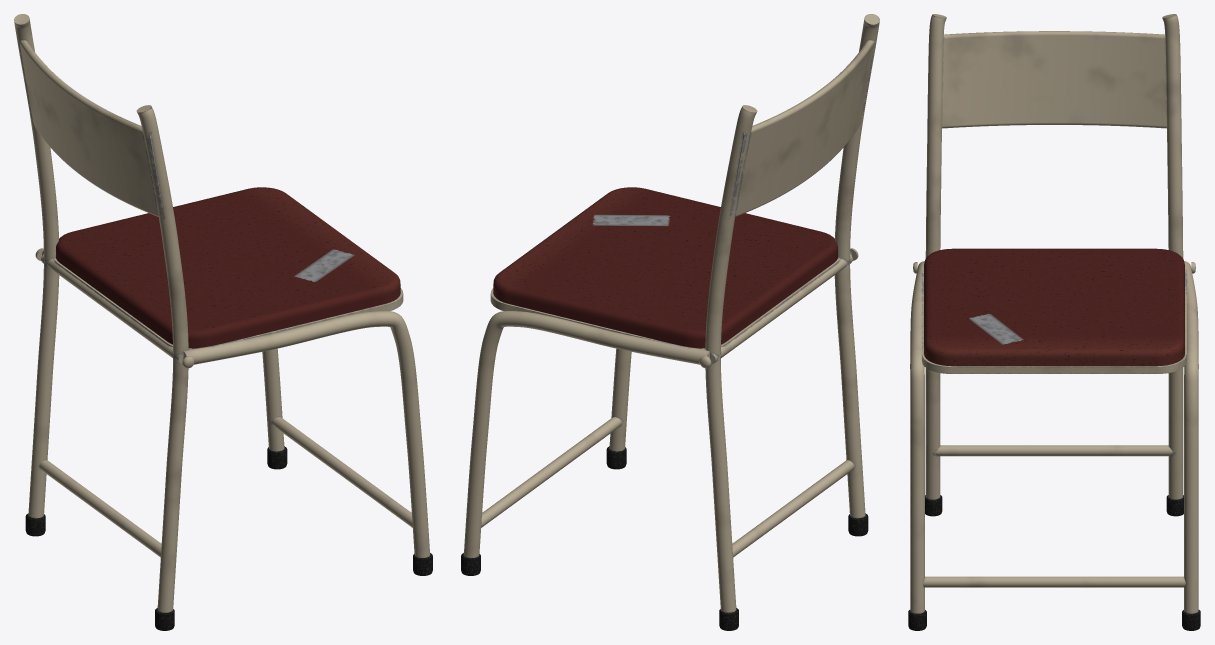
The model's file is SM_FoldingChair.glb.
3 renders of one model, left to right at view 1: azimuth 30°, elevation 25°; view 2: azimuth 150°, elevation 25°; view 3: azimuth 270°, elevation 25°, orthographic. The views are drawn at different scales.
Parts seen in each view (by area): view 1: SM_FoldingChair; view 2: SM_FoldingChair; view 3: SM_FoldingChair.
Boxes of the visible parts, bbox=[...] form: SM_FoldingChair: bbox=[14, 14, 432, 630]; SM_FoldingChair: bbox=[461, 14, 879, 630]; SM_FoldingChair: bbox=[908, 14, 1200, 630].
Size of the model in its own units: 0.4886 by 0.8387 by 0.453.
3 materials, 3 textured.
